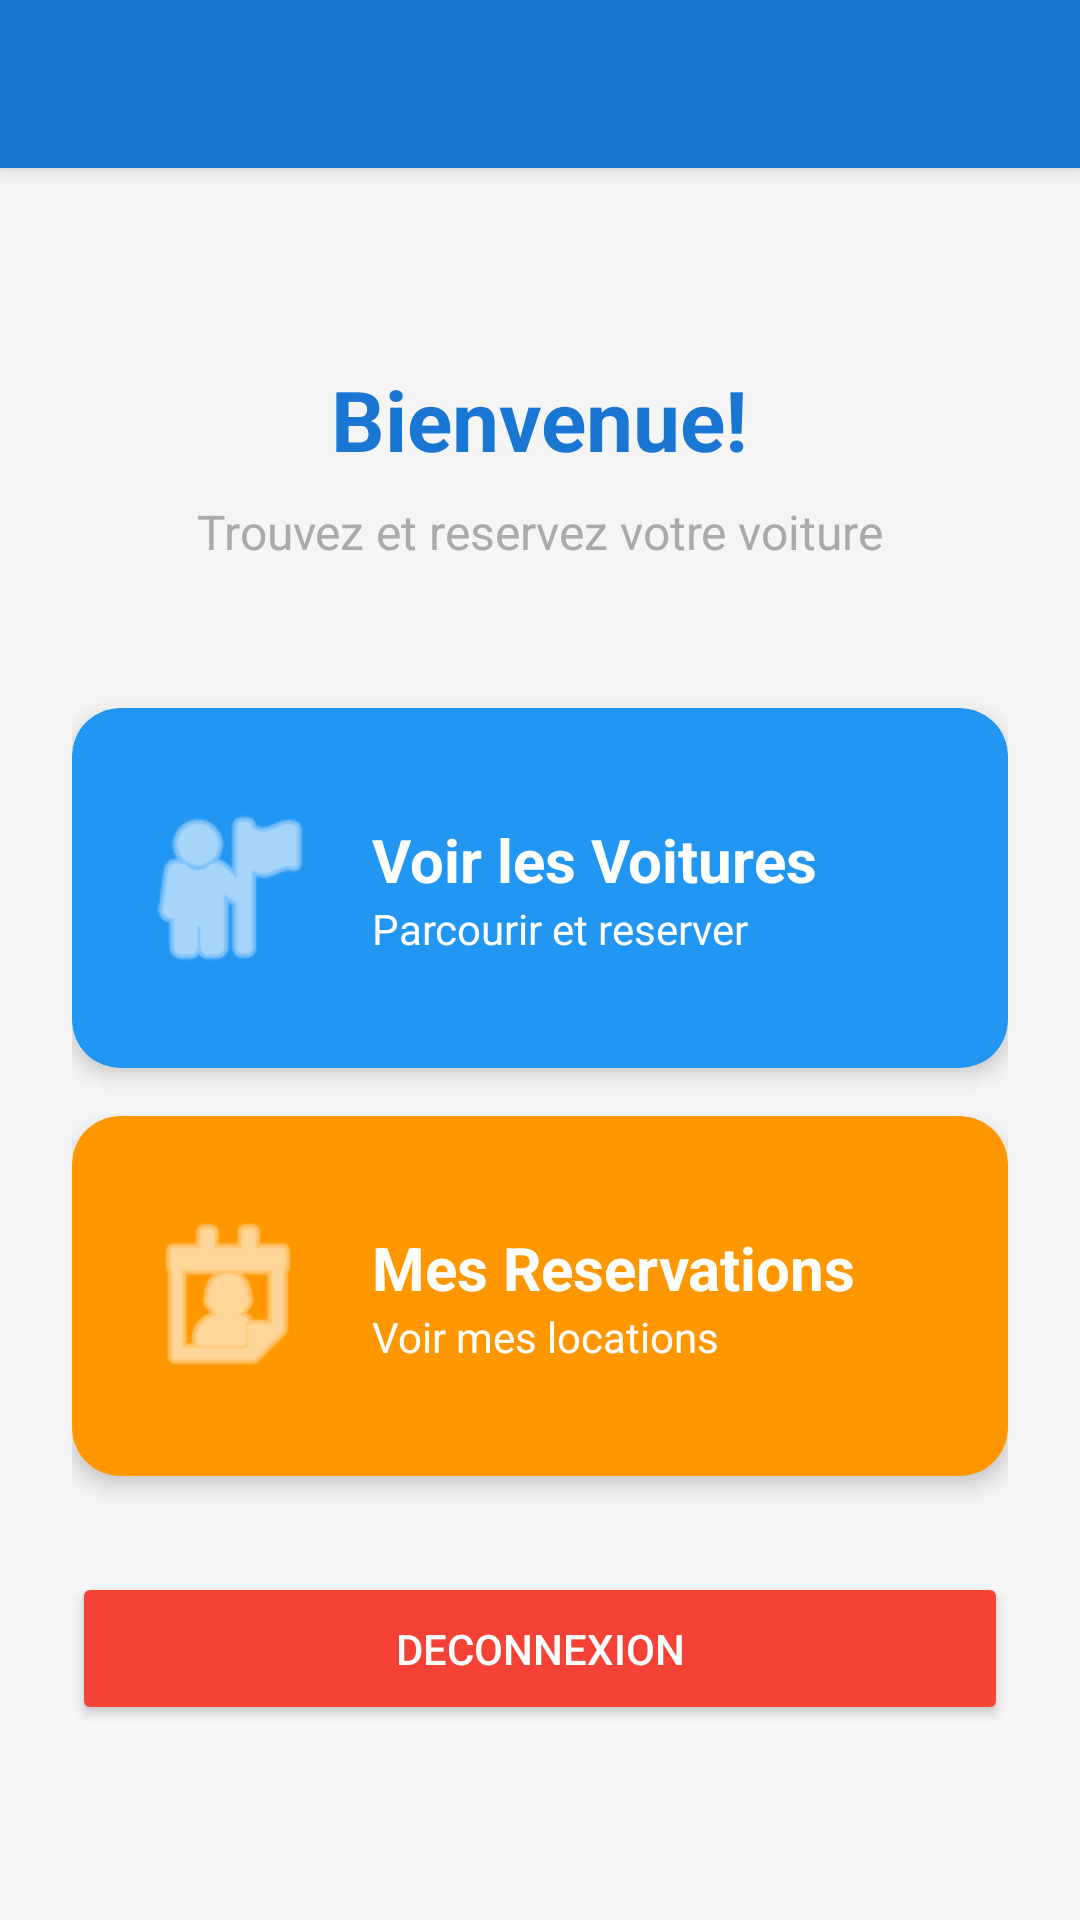

Icon click points for this 1080*1920 phone screenshot, format point (x, y):
calendar: point (228, 1294)
myplaces: point (230, 888)
